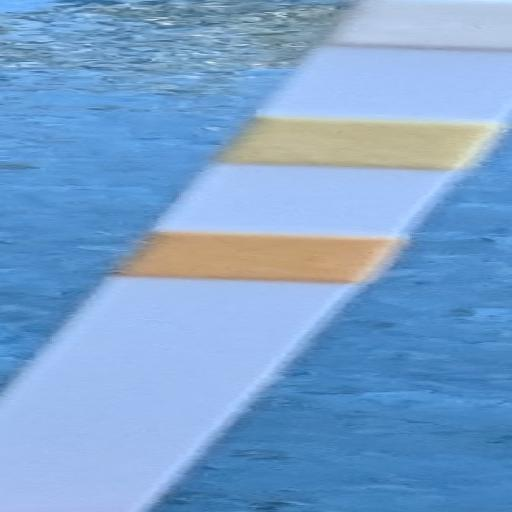pads: (119, 230, 395, 284), (219, 117, 496, 166), (292, 0, 512, 54)
